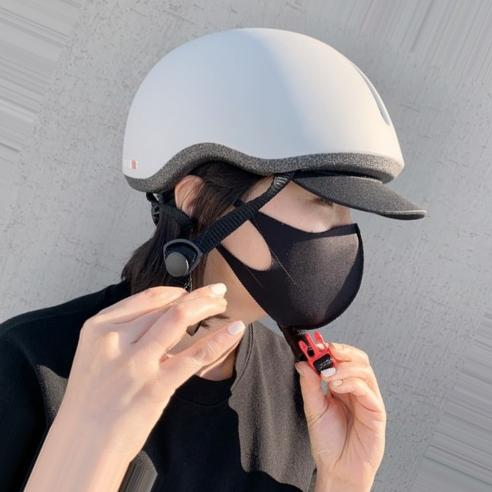with helmet: (116, 23, 426, 332)
